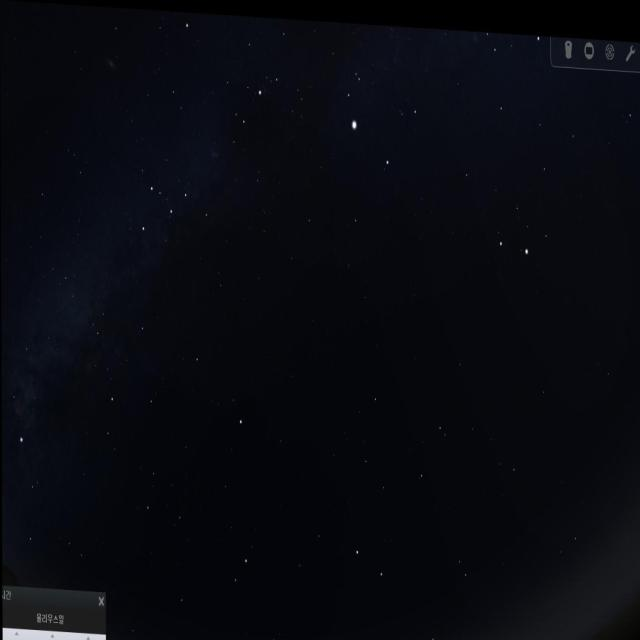cassiopeia: (138, 166, 207, 254)
